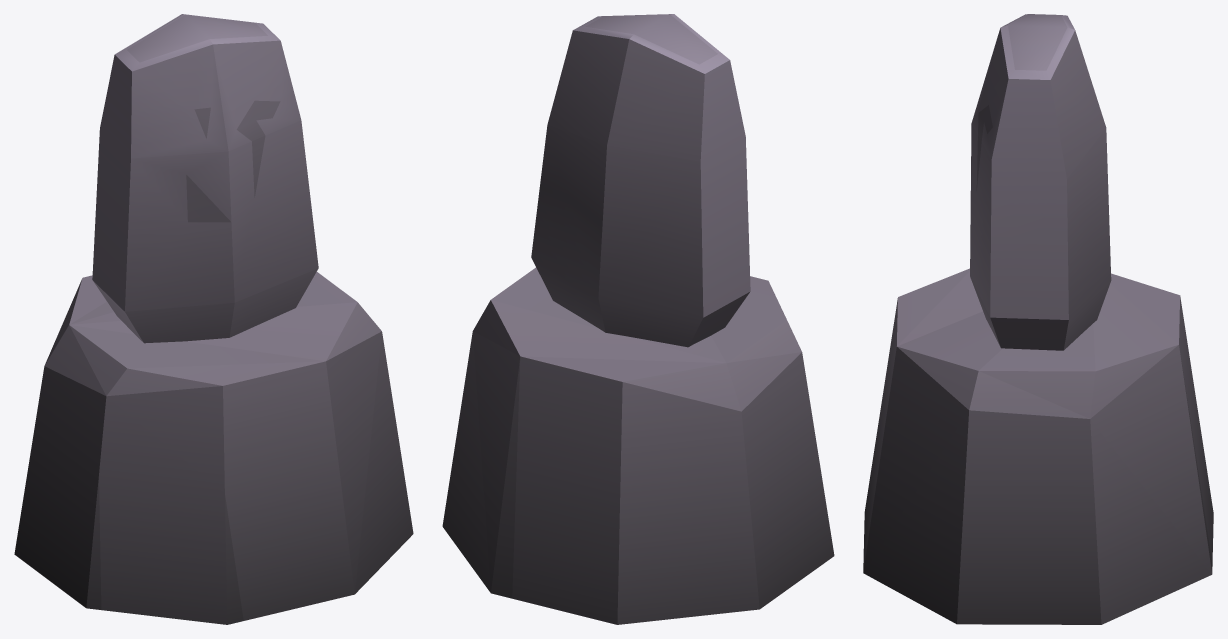
The model's file is grave_3.glb.
3 views of the same model, side by side, from view 1: azimuth 30°, elevation 25°; view 2: azimuth 150°, elevation 25°; view 3: azimuth 270°, elevation 25° (orthographic).
Visible parts, largest first — view 1: grave_3; view 2: grave_3; view 3: grave_3.
Part boxes in pixels (left/top/right/bottom): grave_3: left=14, top=14, right=413, bottom=624; grave_3: left=442, top=14, right=834, bottom=624; grave_3: left=863, top=14, right=1213, bottom=624.
Size of the model in its own units: 0.8819 by 1.36 by 0.8393.
1 material, 1 textured.
